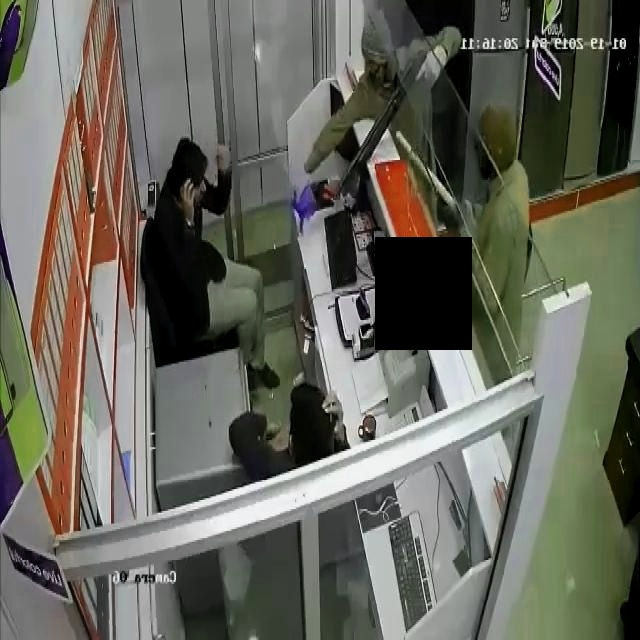gun: (336, 43, 429, 201), (395, 129, 464, 223)
